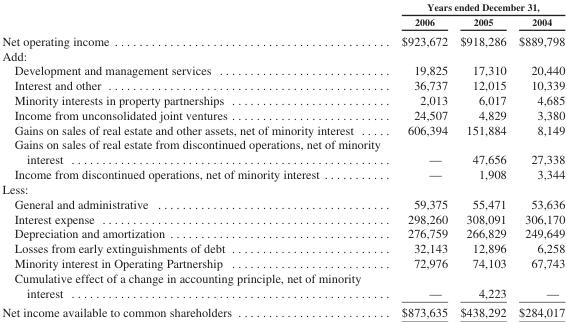table: (1, 0, 564, 319)
table column: (1, 0, 390, 319), (390, 0, 453, 319), (453, 0, 511, 319), (511, 0, 564, 319)
table column header: (1, 0, 564, 30)
table projected row header: (1, 47, 564, 62), (1, 181, 564, 196)
table row: (1, 270, 564, 302), (1, 136, 564, 166), (1, 30, 564, 47), (1, 302, 564, 319), (1, 14, 564, 30), (1, 47, 564, 62), (1, 62, 564, 77), (1, 77, 564, 92), (1, 92, 564, 107), (1, 107, 564, 122), (1, 166, 564, 181), (1, 181, 564, 196), (1, 210, 564, 225), (1, 225, 564, 240), (1, 240, 564, 255), (1, 255, 564, 270), (1, 0, 564, 14), (1, 122, 564, 136), (1, 196, 564, 210)
table spanning cell: (390, 0, 564, 14)
